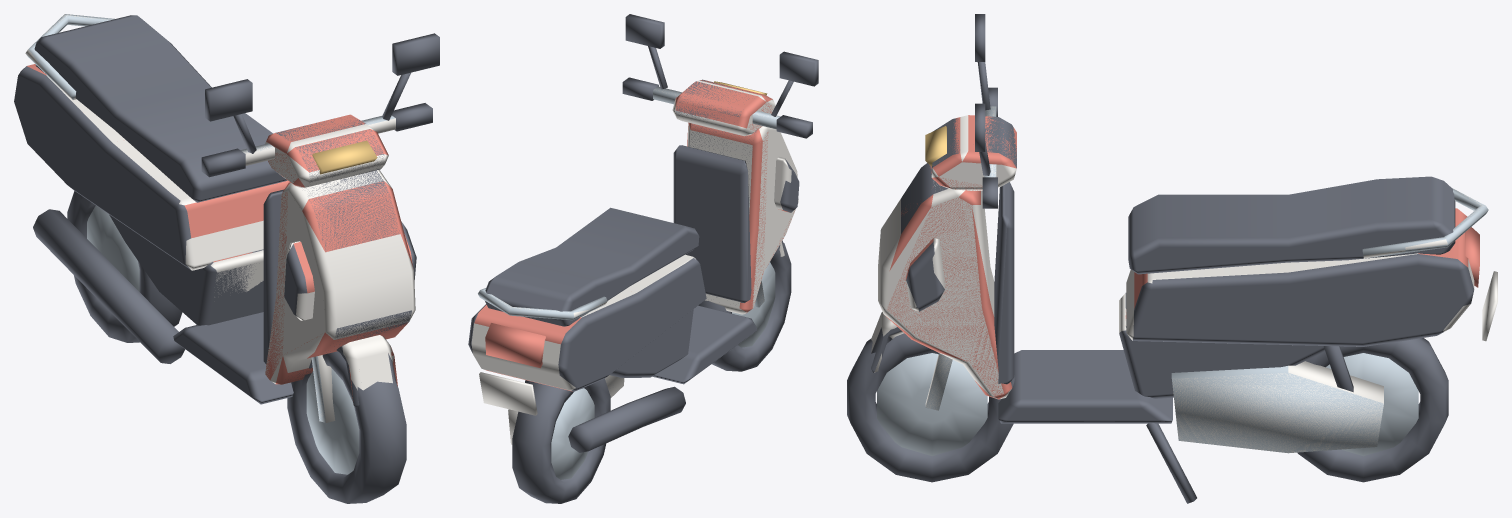
The model's file is sq-scooter.glb.
3 views of the same model, side by side, from view 1: azimuth 30°, elevation 25°; view 2: azimuth 150°, elevation 25°; view 3: azimuth 270°, elevation 25° (orthographic). The views are drawn at different scales.
Visible parts, largest first — view 1: scooterC, scooterA, scooterB; view 2: scooterC, scooterA, scooterB; view 3: scooterC, scooterA, scooterB.
Boxes of the visible parts, x1,y1,x2,y2 form: scooterC: [14, 15, 439, 503]; scooterA: [26, 14, 415, 474]; scooterB: [25, 14, 413, 457]; scooterC: [468, 14, 818, 503]; scooterA: [471, 80, 798, 479]; scooterB: [474, 80, 794, 465]; scooterC: [847, 14, 1474, 503]; scooterA: [871, 106, 1497, 456]; scooterB: [884, 106, 1497, 452].
Bounding box in the file's own units: 0.76 × 1.31 × 1.9.
